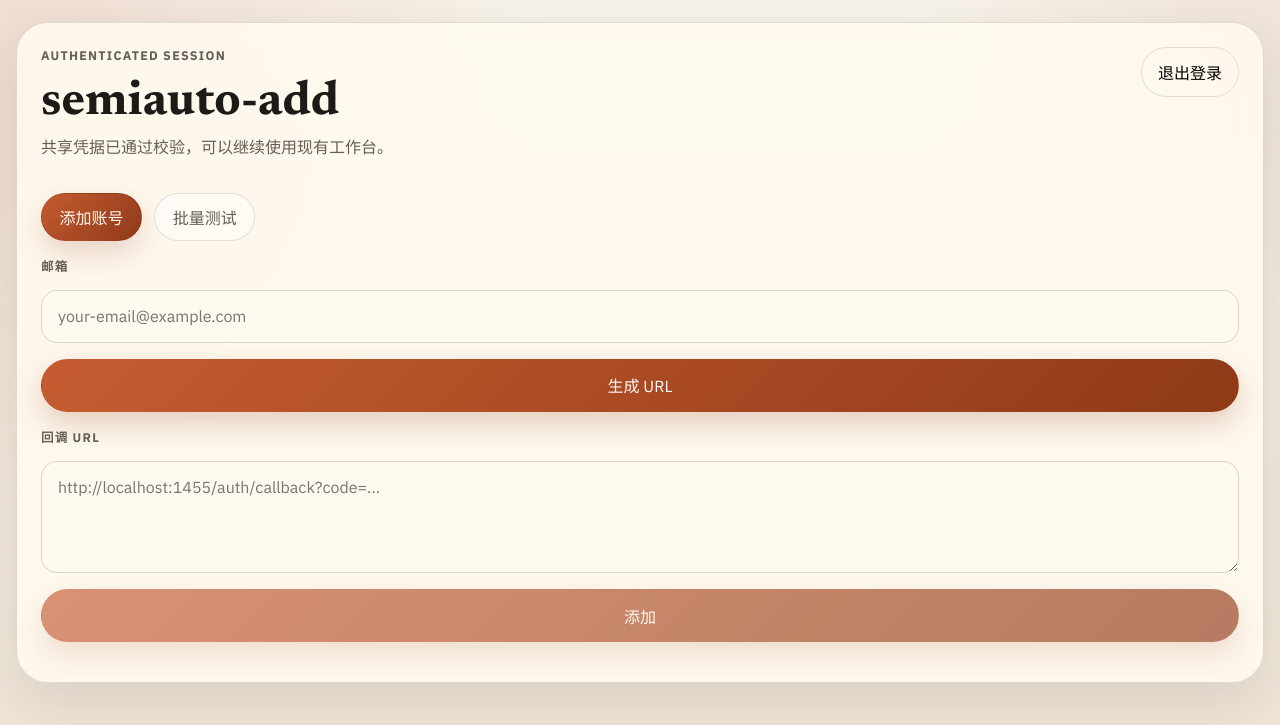
Test: SemiAutoWorkbench › keeps success summary after add succeeds
Type "user@example.com" into the field labelled "邮箱" at coordinates (640, 316), box [41,290,1239,343]
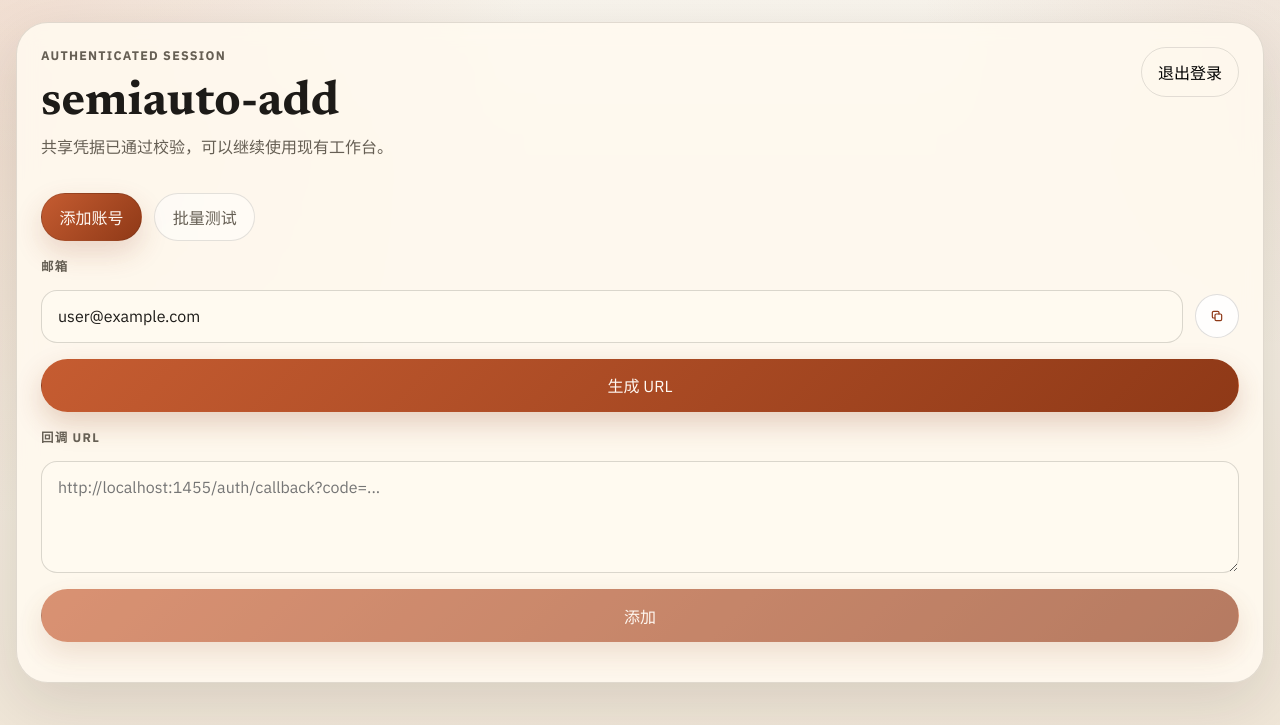
Click the button "生成 URL" at coordinates (640, 385), box [41,358,1239,412]
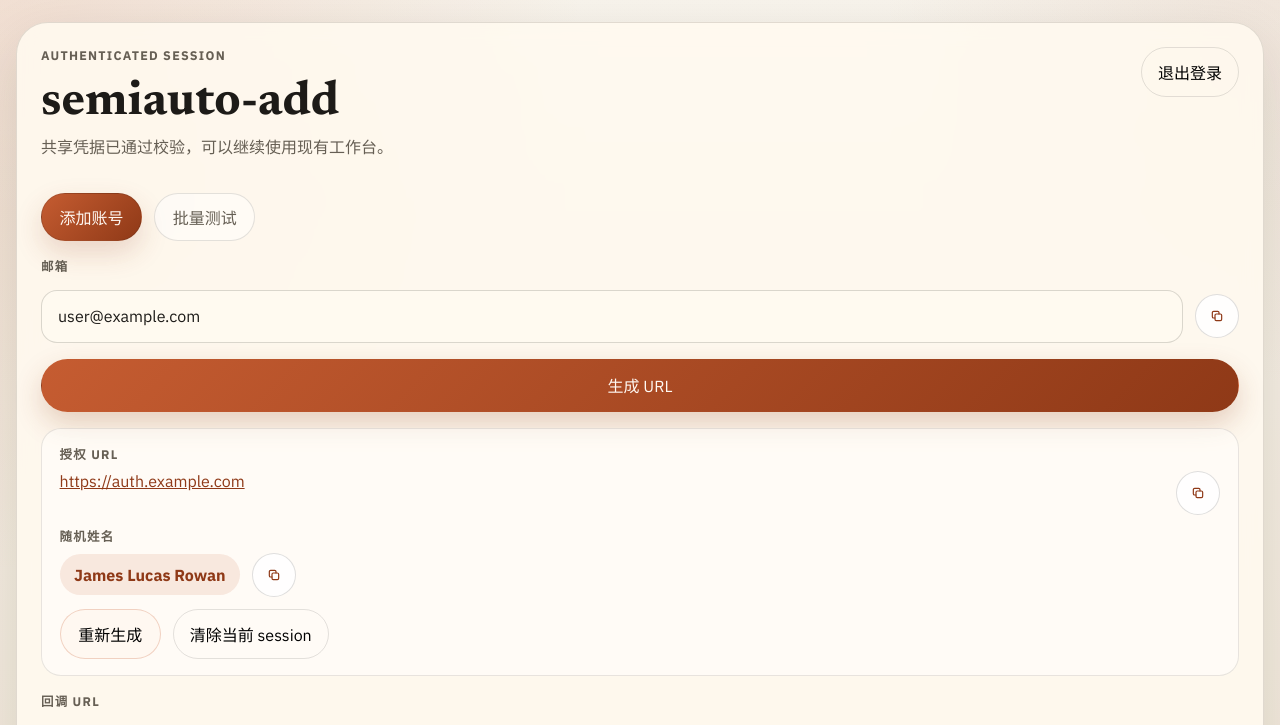
Now the button named "复制邮箱" is shown, box [1195,294,1239,338]
Now the element named "generated auth url" is shown, box [41,428,1239,676]
Now the button named "复制授权 URL" is shown, box [1176,471,1220,515]
Click the button named "复制随机姓名" at coordinates (274, 575), box [252,553,296,597]
(page scrolled)
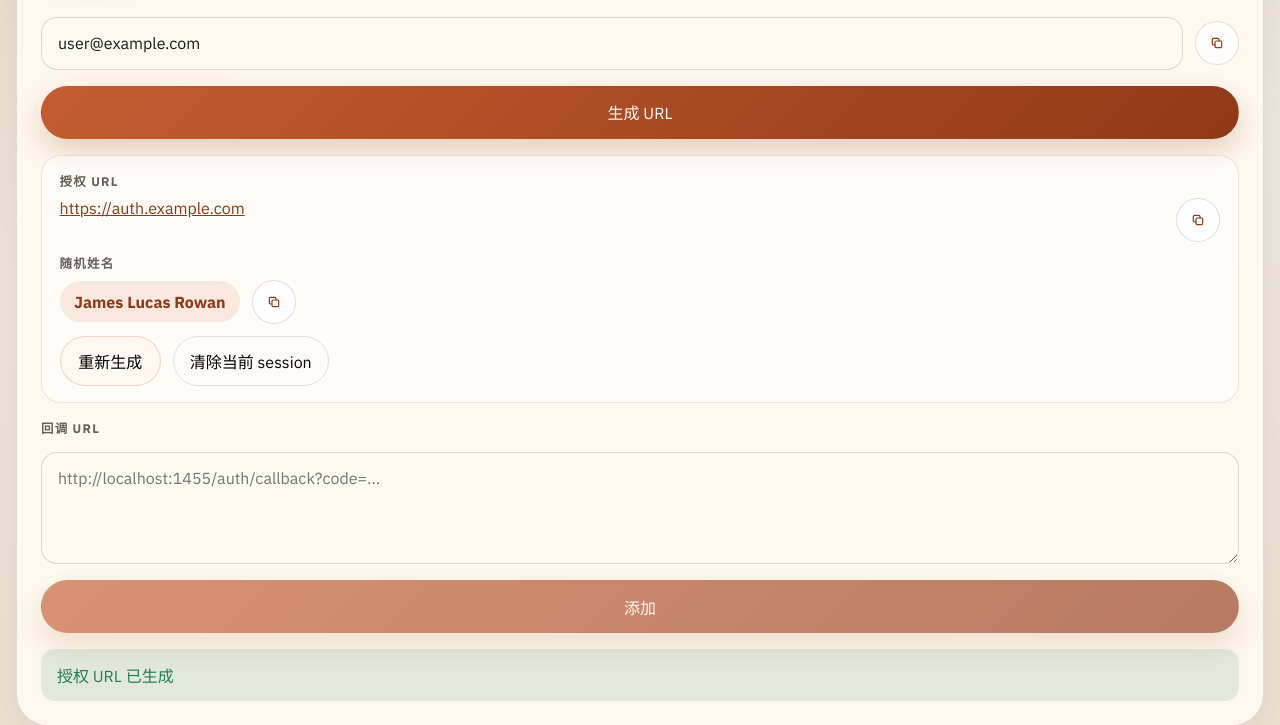
Type "http://localhost:1455/auth/callback?code=callback-123" into the text box labelled "回调 URL" at coordinates (640, 508), box [41,452,1239,564]
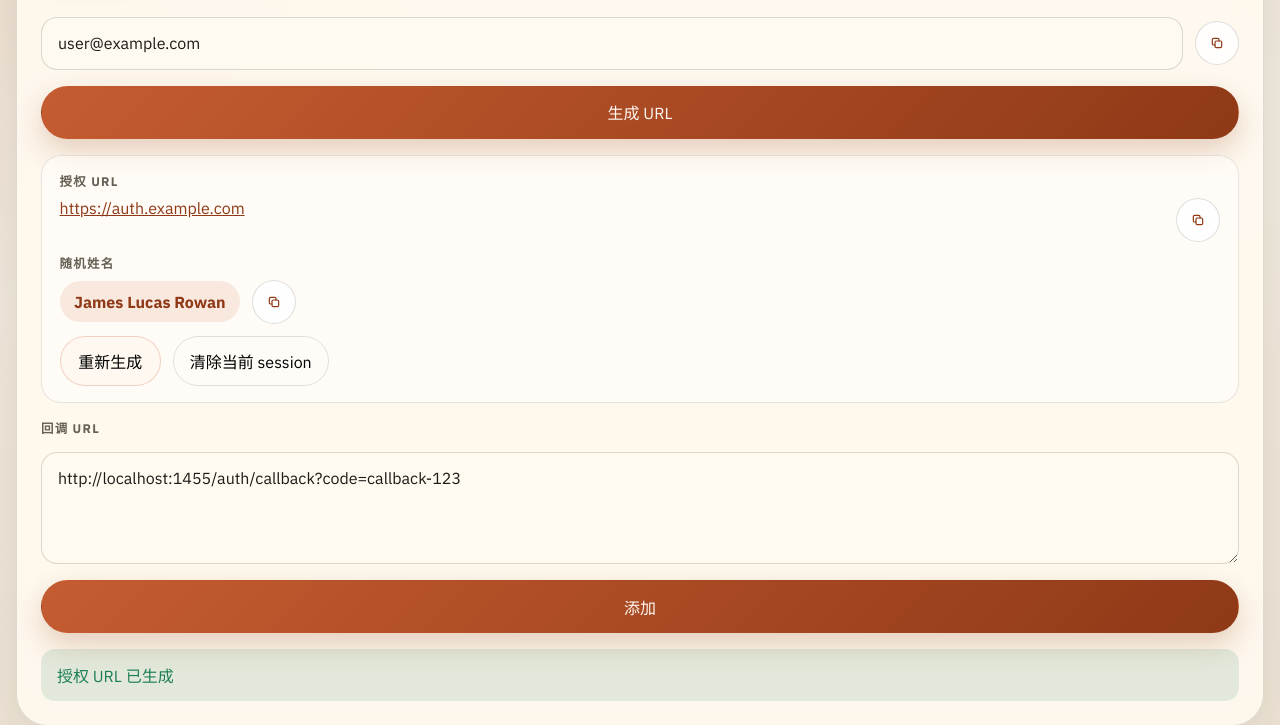
Click the button "添加" at coordinates (640, 607), box [41,580,1239,634]
(page scrolled)
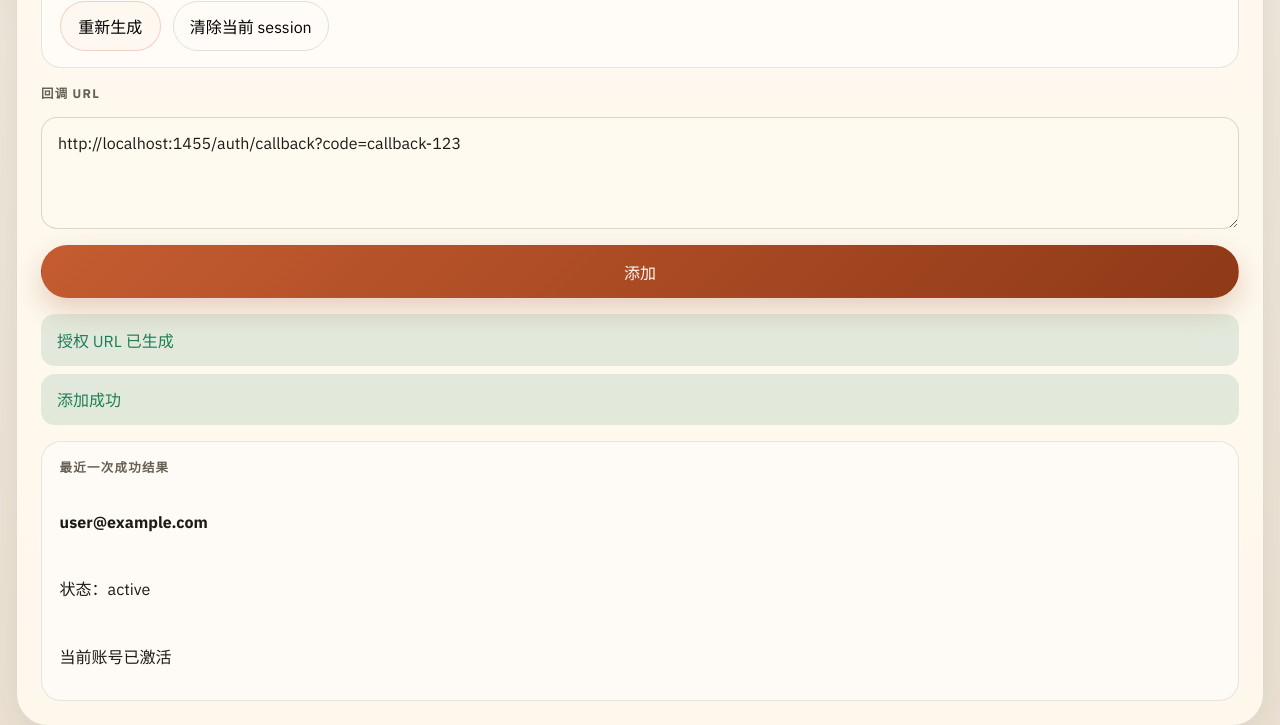
Now the element named "add account success summary" is shown, box [41,441,1239,701]
Now the text "当前账号已激活" is shown, box [60,647,172,667]
